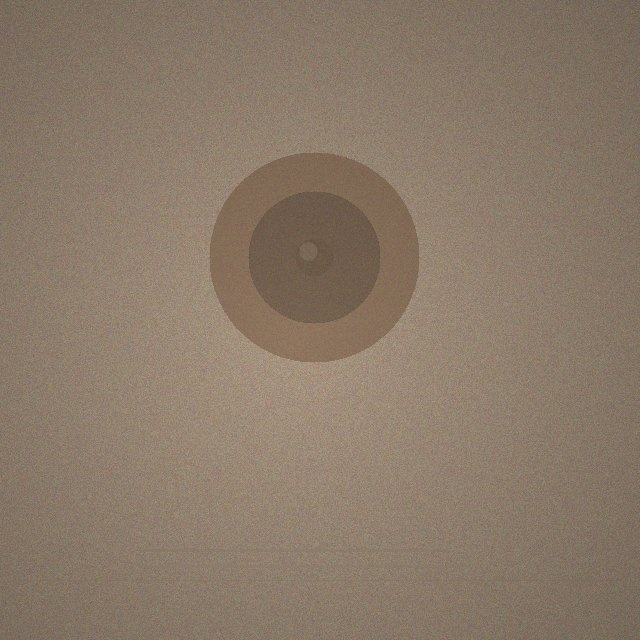good: (209, 152, 419, 362)
